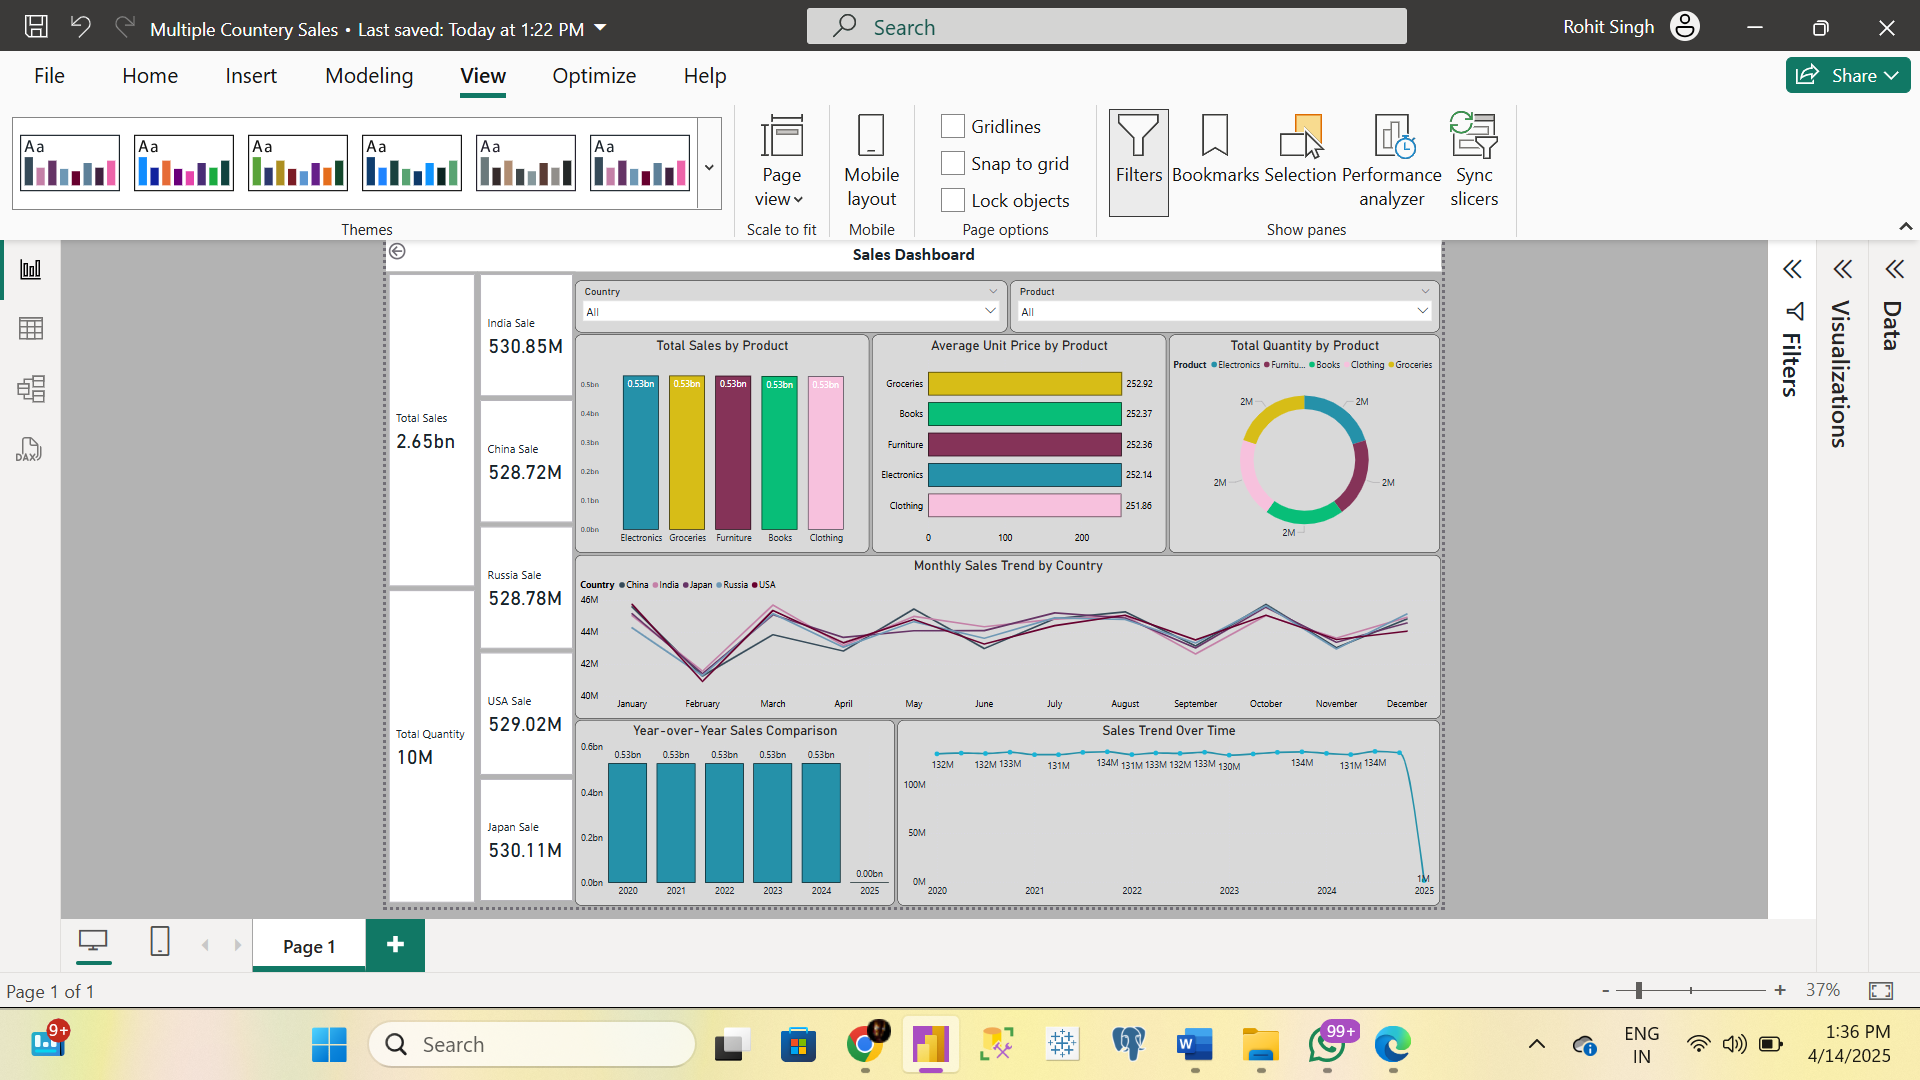

The dashboard page shown, as its layout file describes it:
{"tool":"powerbi","page":{"name":"Page 1","canvas":[1900,1200],"ordinal":0},"visuals":[{"type":"shape","box":[0,0,1900.3,56.2],"z":0},{"type":"textbox","box":[0,0,1899.1,56.9],"z":1000},{"type":"cardVisual","fields":{"Data":["Multi_country_sales_data.India Sale","Multi_country_sales_data.China Sale","Multi_country_sales_data.Russia Sale","Multi_country_sales_data.USA Sale","Multi_country_sales_data.Japan Sale"]},"box":[164.8,57.8,176.3,1141.7],"z":2000},{"type":"slicer","fields":{"Values":["Multi_country_sales_data.Country"]},"box":[341.2,71.6,777.8,93.1],"z":3000},{"type":"columnChart","fields":{"Category":["Multi_country_sales_data.Product"],"Y":["Measures Table.Total Sales"]},"box":[341.3,169.5,529.4,392.4],"z":4000},{"type":"donutChart","fields":{"Category":["Multi_country_sales_data.Product"],"Y":["Multi_country_sales_data.Total Quantity"]},"box":[1409.3,169.5,487.6,392.4],"z":5000},{"type":"lineChart","title":"Sales Trend Over Time","fields":{"Category":["Multi_country_sales_data.Date.Variation.Date Hierarchy.Year","Multi_country_sales_data.Date.Variation.Date Hierarchy.Quarter"],"Y":["Multi_country_sales_data.Total Sales"]},"box":[921,863.7,975.8,334],"z":6000},{"type":"clusteredColumnChart","title":"Year-over-Year Sales Comparison","fields":{"Category":["Multi_country_sales_data.Date.Variation.Date Hierarchy.Year"],"Y":["Measures Table.Total Sales"]},"box":[341.2,863.7,575,334],"z":7000},{"type":"cardVisual","fields":{"Data":["Multi_country_sales_data.Total Sales","Multi_country_sales_data.Total Quantity"]},"box":[0,57.8,164.8,1141.7],"z":8000},{"type":"actionButton","box":[0,0,100,40],"z":9000},{"type":"clusteredBarChart","title":"Average Unit Price by Product","fields":{"Category":["Multi_country_sales_data.Product"],"Y":["Avg(Multi_country_sales_data.UnitPrice)"]},"box":[875.3,169.5,529.4,392.4],"z":10000},{"type":"lineChart","title":"Monthly Sales Trend by Country","fields":{"Category":["Multi_country_sales_data.Date.Variation.Date Hierarchy.Month"],"Y":["Measures Table.Total Sales"],"Series":["Multi_country_sales_data.Country"]},"box":[341.3,566.5,1557.9,294.9],"z":11000},{"type":"slicer","fields":{"Values":["Multi_country_sales_data.Product"]},"box":[1123.8,71.6,773,93.1],"z":12000}]}

Visuals, with their boxes on the page's 1900x1200 design canvas (x1, y1, x2, y2). These are canvas units, not pixel positions in the 1920x1080 screenshot, which may show the page scaled, cropped or inside an application window:
shape: bbox=(0, 0, 1900, 56)
textbox: bbox=(0, 0, 1899, 57)
cardVisual - Multi_country_sales_data.India Sale x Multi_country_sales_data.China Sale: bbox=(165, 58, 341, 1200)
slicer - Multi_country_sales_data.Country: bbox=(341, 72, 1119, 165)
columnChart - Multi_country_sales_data.Product x Measures Table.Total Sales: bbox=(341, 170, 871, 562)
donutChart - Multi_country_sales_data.Product x Multi_country_sales_data.Total Quantity: bbox=(1409, 170, 1897, 562)
"Sales Trend Over Time" lineChart: bbox=(921, 864, 1897, 1198)
"Year-over-Year Sales Comparison" clusteredColumnChart: bbox=(341, 864, 916, 1198)
cardVisual - Multi_country_sales_data.Total Sales x Multi_country_sales_data.Total Quantity: bbox=(0, 58, 165, 1200)
actionButton: bbox=(0, 0, 100, 40)
"Average Unit Price by Product" clusteredBarChart: bbox=(875, 170, 1405, 562)
"Monthly Sales Trend by Country" lineChart: bbox=(341, 566, 1899, 861)
slicer - Multi_country_sales_data.Product: bbox=(1124, 72, 1897, 165)
